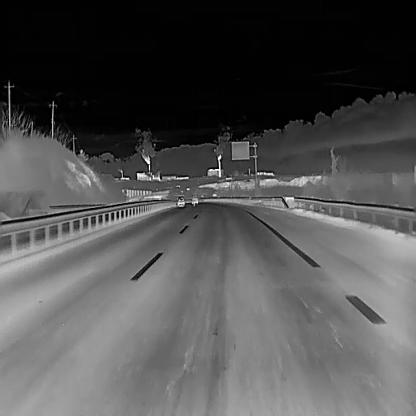car: (176, 195, 185, 207), (190, 193, 198, 204)
